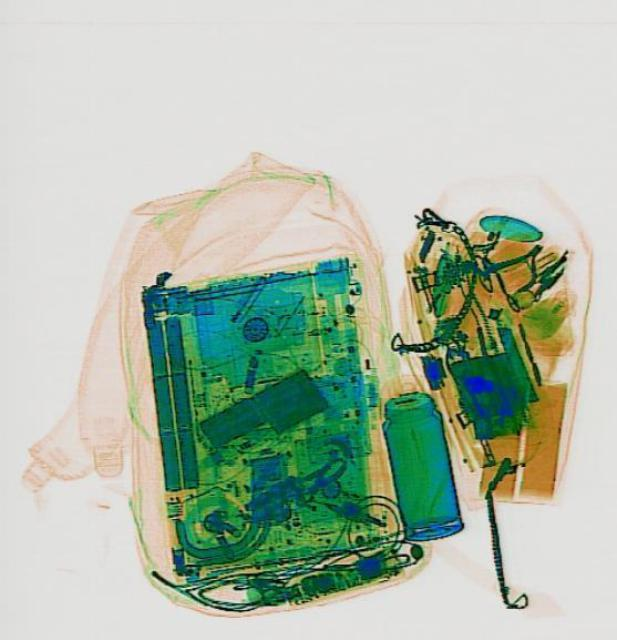Pliers: (481, 229, 555, 299)
